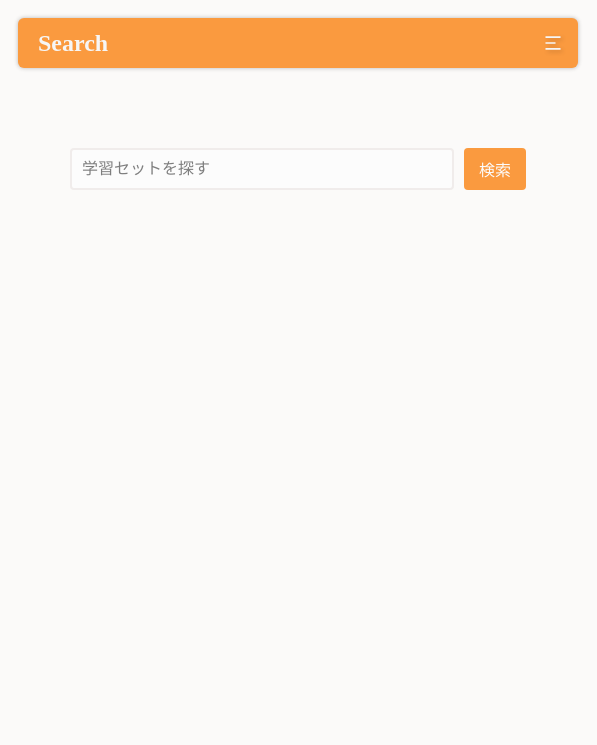
Scenario: MainSearch › 正常にレンダリングされ、検索が成功する
Step 1. Type "Test" into the field with placeholder "学習セットを探す" → (262, 169), box [70, 148, 454, 190]
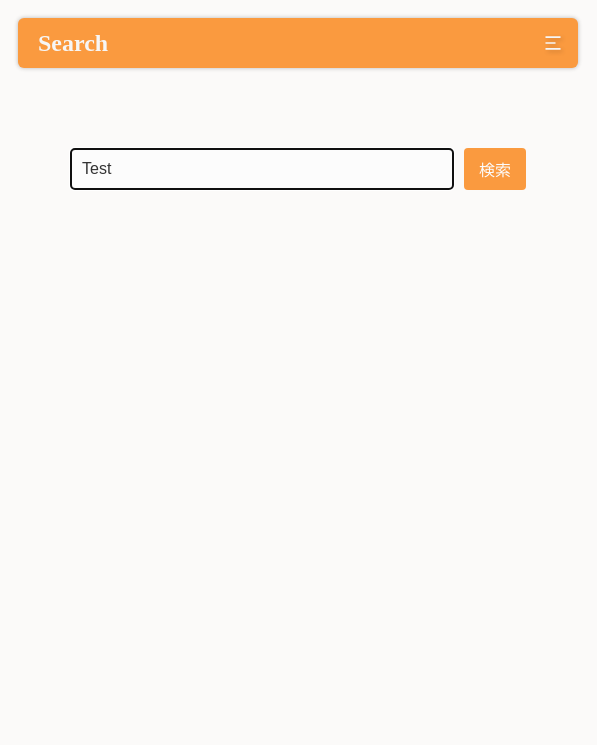
Step 2. Click the button "検索" → click(495, 169), box [464, 148, 526, 190]
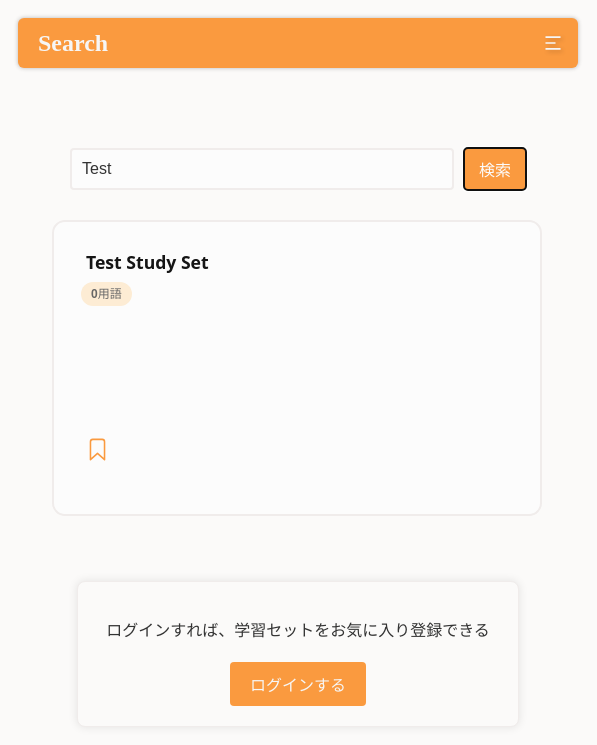
Expected: the link "Test Study Set" is shown, [86, 250, 209, 274]
